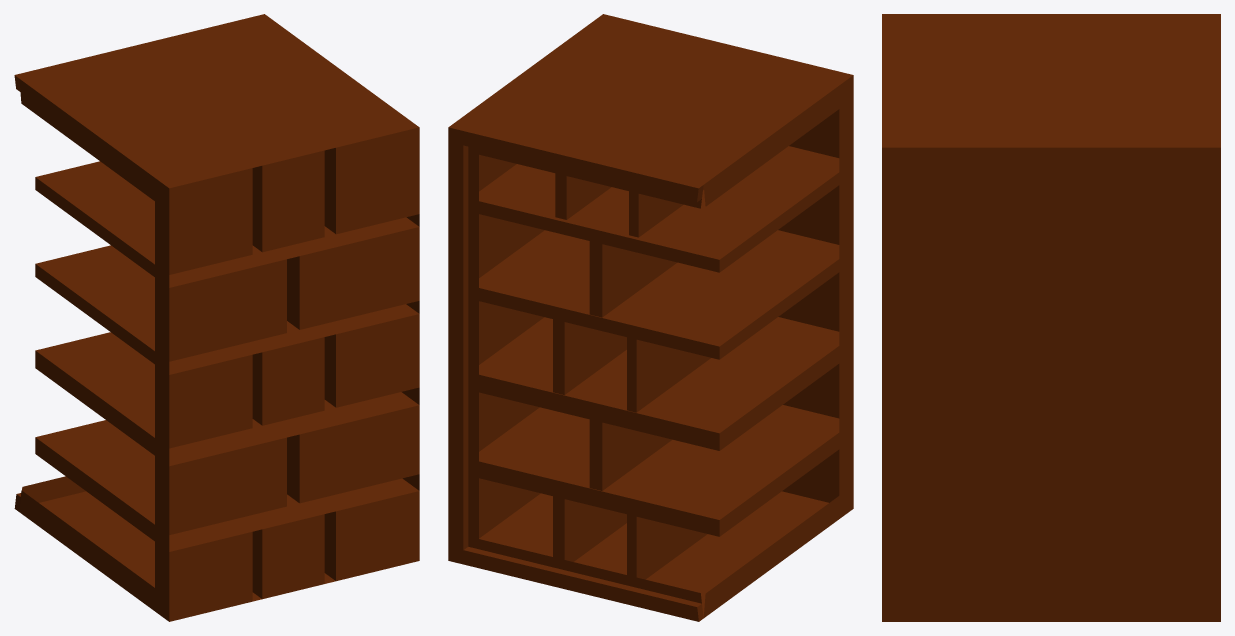
Rendered from mueble de oficina (2).fbx.
3 views of the same model, side by side, from view 1: azimuth 30°, elevation 25°; view 2: azimuth 150°, elevation 25°; view 3: azimuth 270°, elevation 25° (orthographic). The views are drawn at different scales.
Parts seen in each view (by area): view 1: Cube; view 2: Cube; view 3: Cube.
Part boxes in pixels (bbox=[...]): Cube: bbox=[14, 14, 419, 621]; Cube: bbox=[448, 14, 853, 621]; Cube: bbox=[882, 14, 1220, 621].
Size of the model in its own units: 627 by 1039 by 672.
